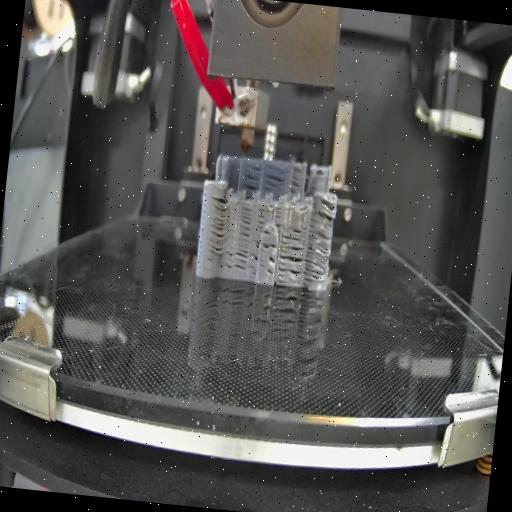cracks: (302, 231, 332, 284), (208, 194, 230, 258), (277, 244, 303, 280), (314, 200, 338, 224), (243, 164, 261, 194), (239, 206, 254, 240), (262, 172, 284, 194), (233, 246, 249, 272), (249, 238, 260, 274), (287, 174, 301, 196), (282, 229, 302, 244), (256, 206, 267, 230), (224, 247, 234, 270), (273, 208, 284, 228), (260, 242, 278, 252), (266, 257, 276, 275), (262, 230, 272, 236)
